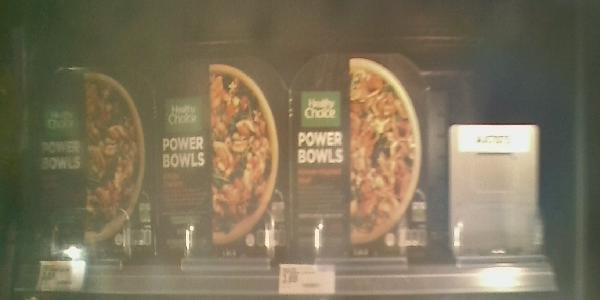pizza1: (292, 51, 432, 262), (155, 54, 294, 263), (28, 53, 160, 257)
